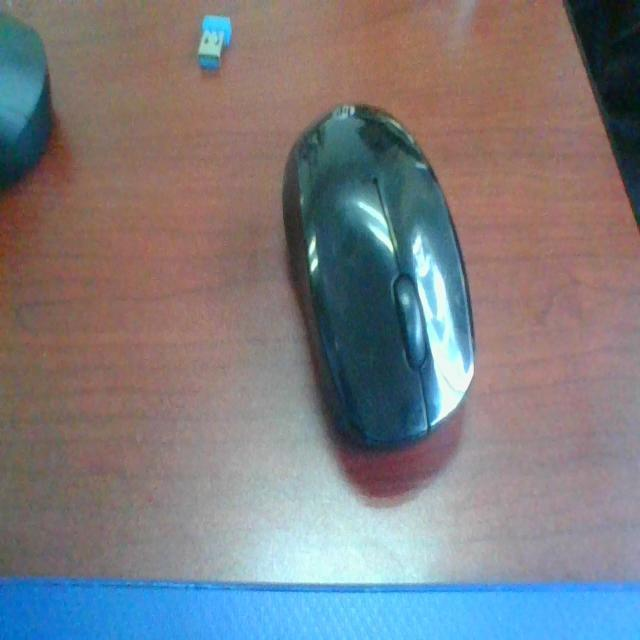Mouse: (276, 86, 498, 476)
